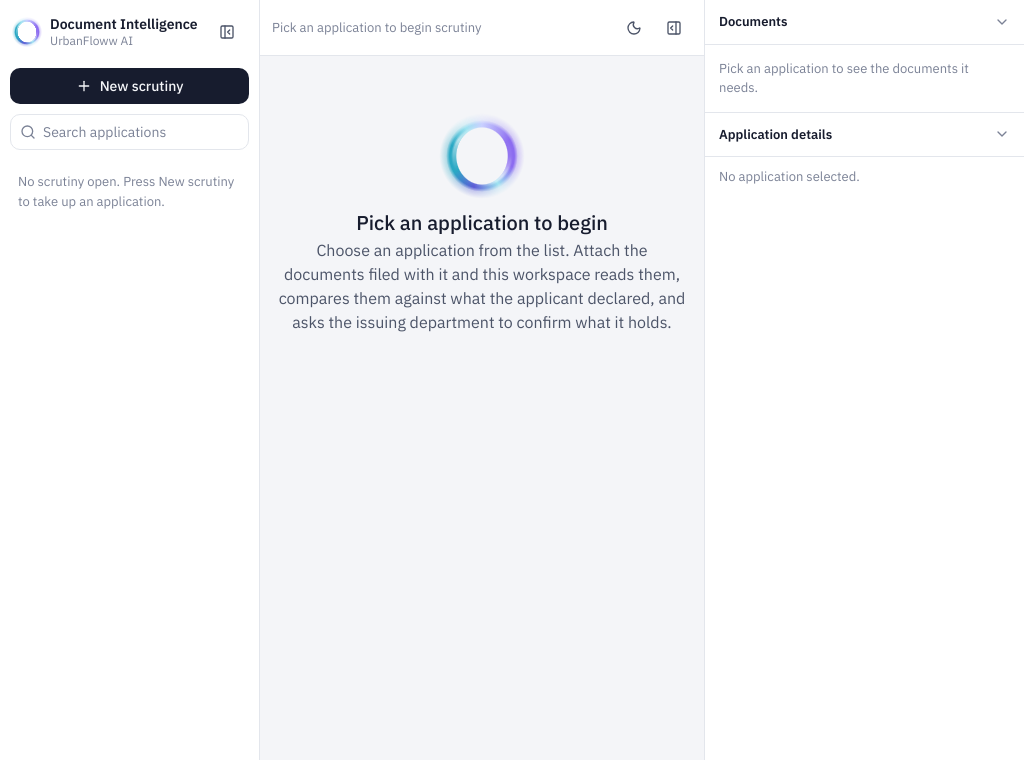
Test: the workspace shell › stops offering an application already on the rail
Click the button "New scrutiny".
click(130, 86)  # box [10,68,249,104]
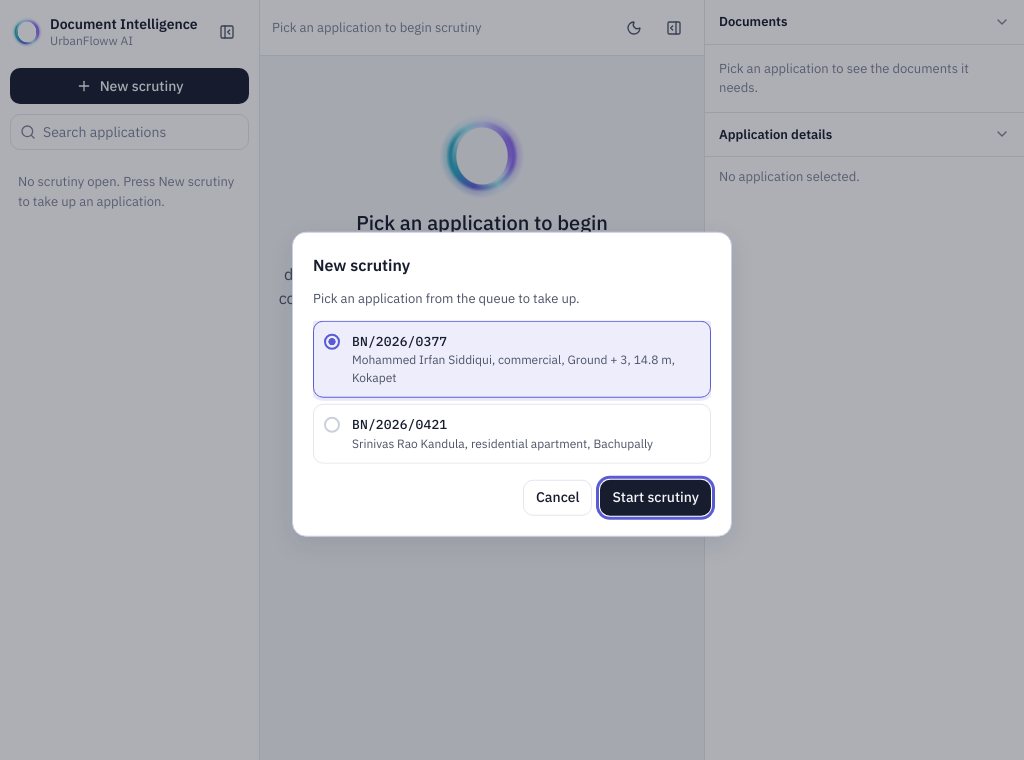
Click the text "BN/2026/0377".
click(400, 341)  # box [352,332,447,349]
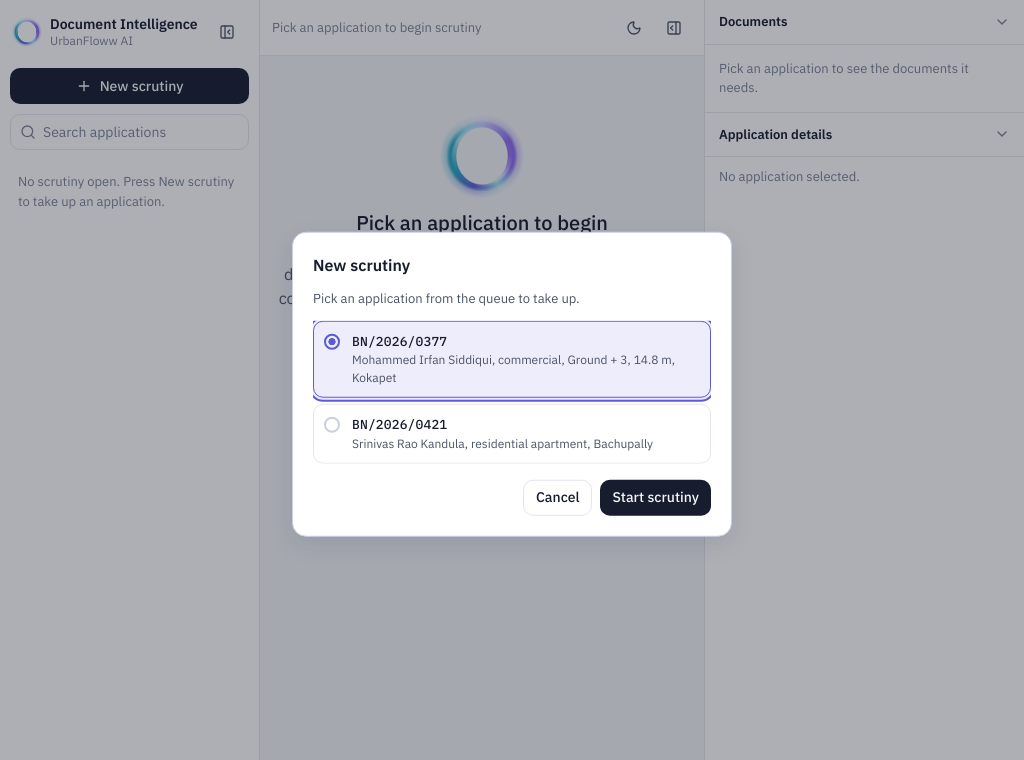
Click the button "Start scrutiny".
click(656, 497)  # box [600,479,711,515]
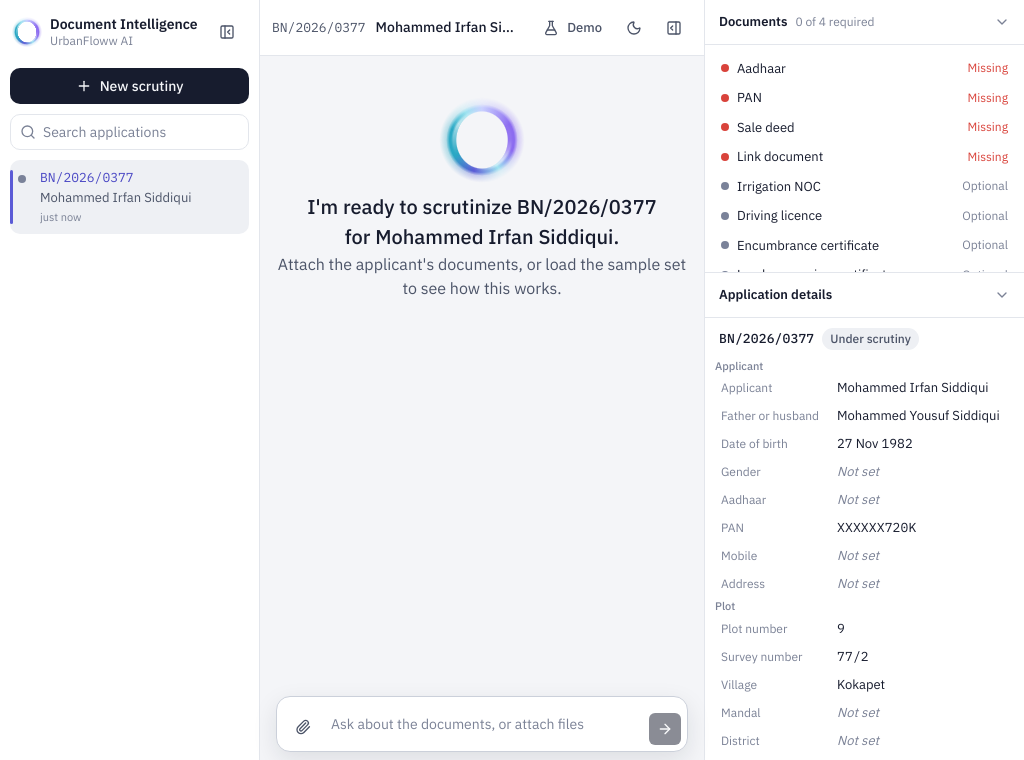
Click the button "New scrutiny".
click(130, 86)  # box [10,68,249,104]
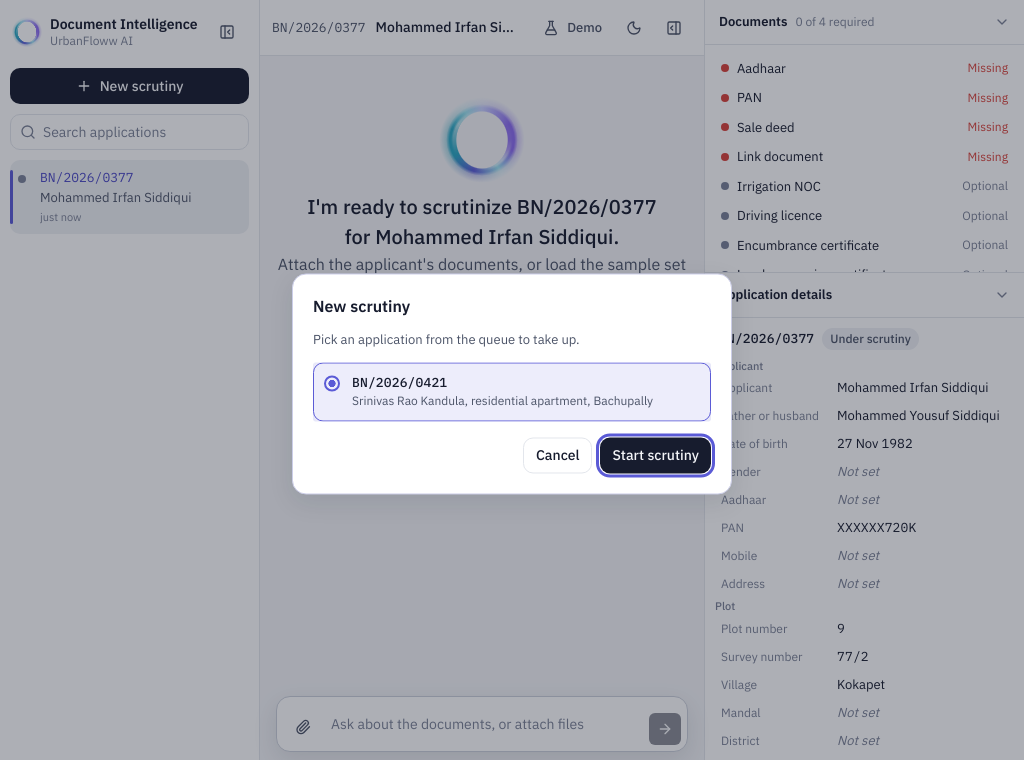
Expected: the text "BN/2026/0421" is shown, [352,374,447,391]
